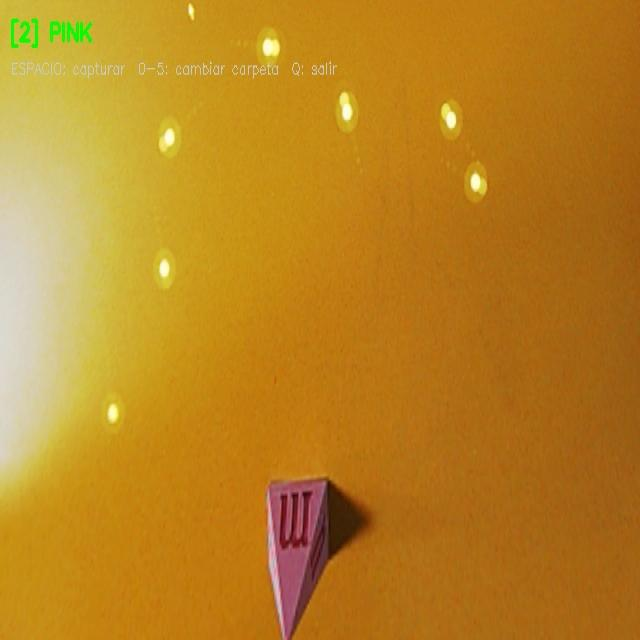pink: (268, 480, 330, 640)
